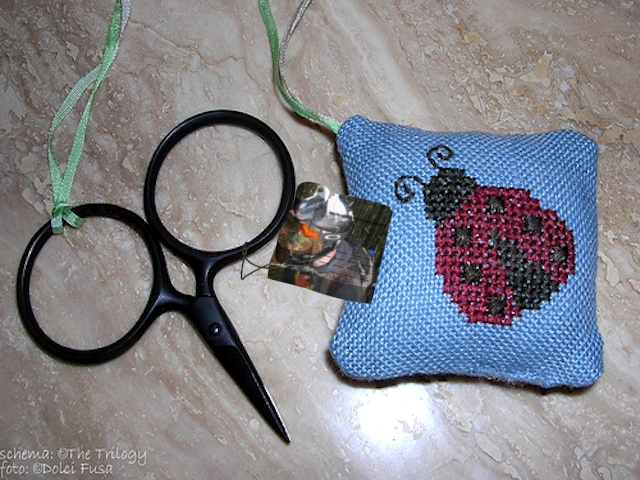phone: (240, 177, 400, 311)
